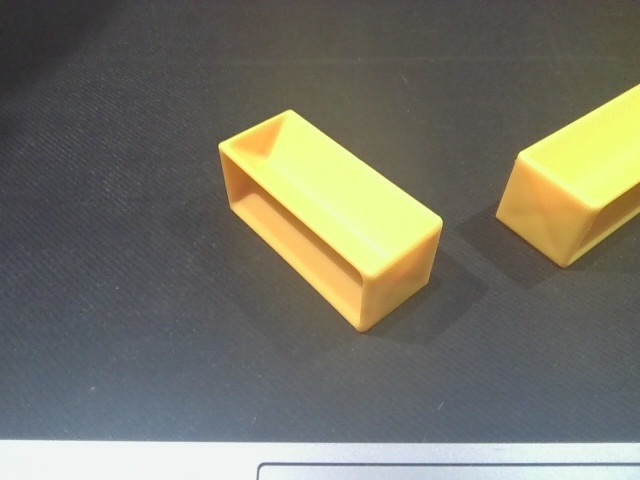YellowSample: (211, 107, 449, 337), (493, 79, 640, 281)
